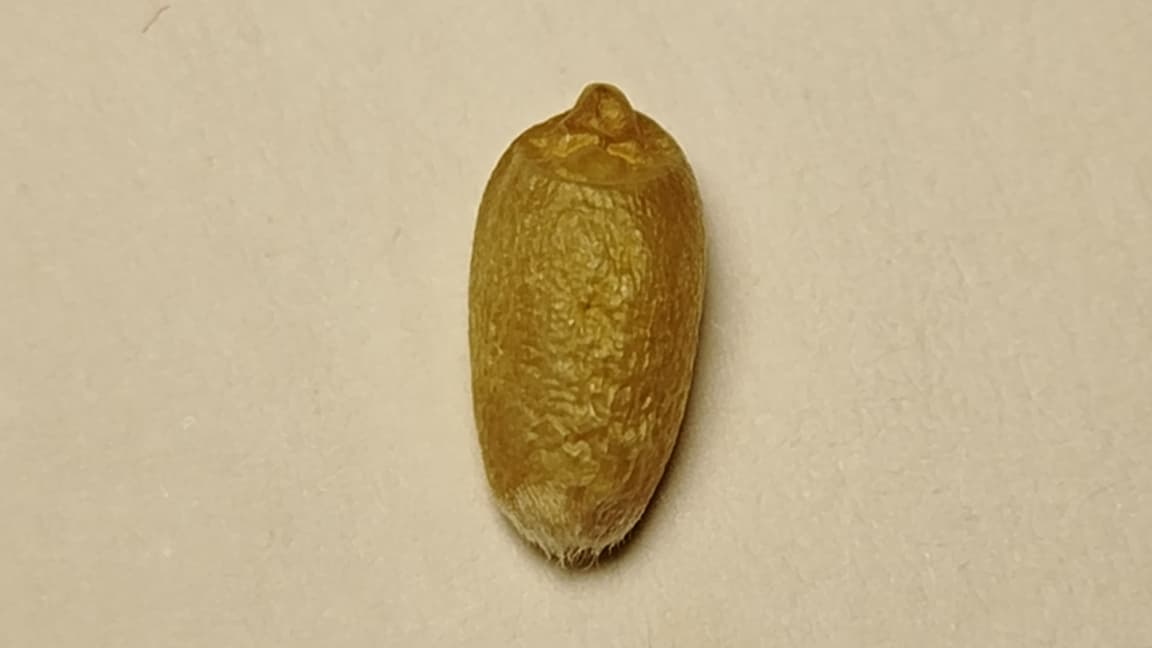healthy: (469, 84, 705, 556)
